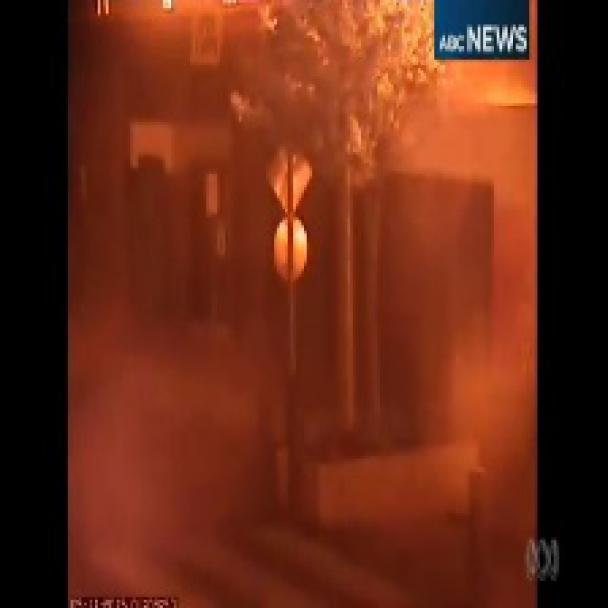smoke: (77, 4, 537, 607)
